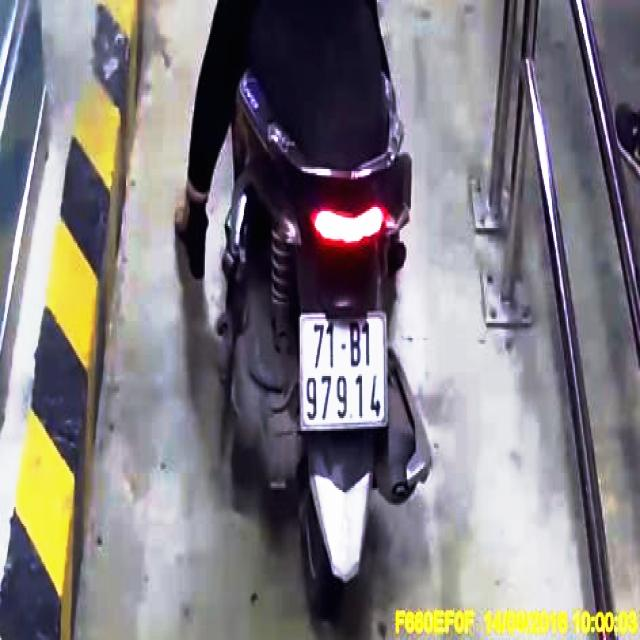license_plate: (299, 315, 390, 428)
